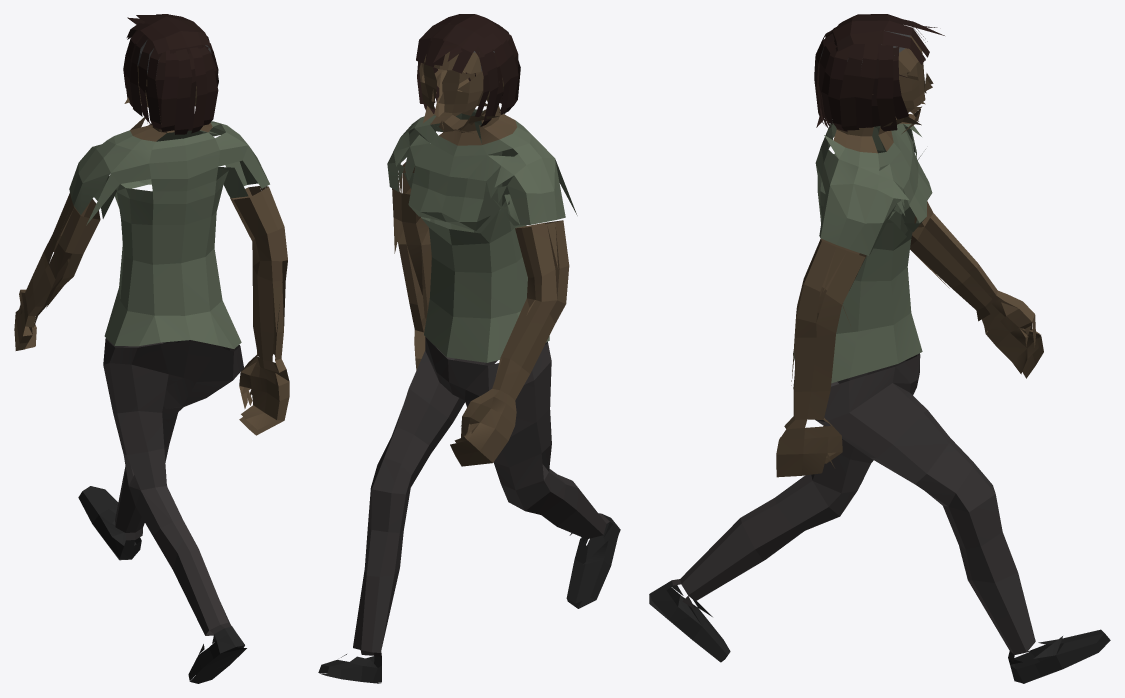
The model's file is person_7_w3.fbx.
3 renders of one model, left to right at view 1: azimuth 30°, elevation 25°; view 2: azimuth 150°, elevation 25°; view 3: azimuth 270°, elevation 25°, orthographic. The views are drawn at different scales.
Visible parts, largest first — view 1: Female; view 2: Female; view 3: Female.
Boxes of the visible parts, x1,y1,x2,y2 form: Female: [14, 14, 289, 683]; Female: [318, 14, 620, 683]; Female: [649, 14, 1110, 683].
Bounding box in the file's own units: 0.33 × 1 × 0.6328.
